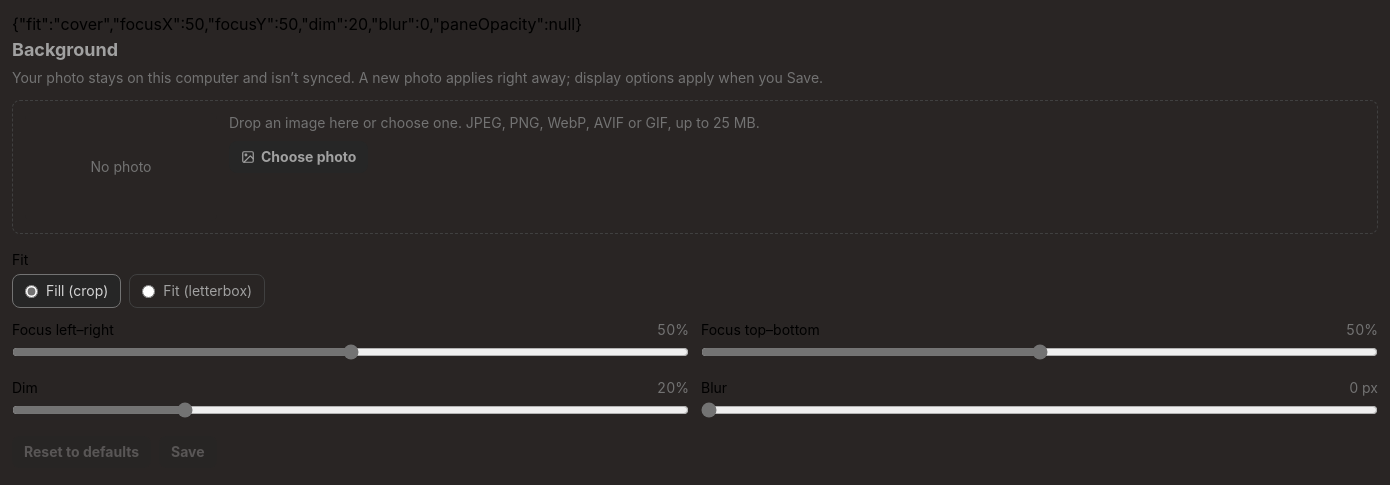
Scenario: BackgroundSettings › saves the options on Save
Set the slider labelled "Blur" to "10" at (1040, 410), box [701,402,1378,418]
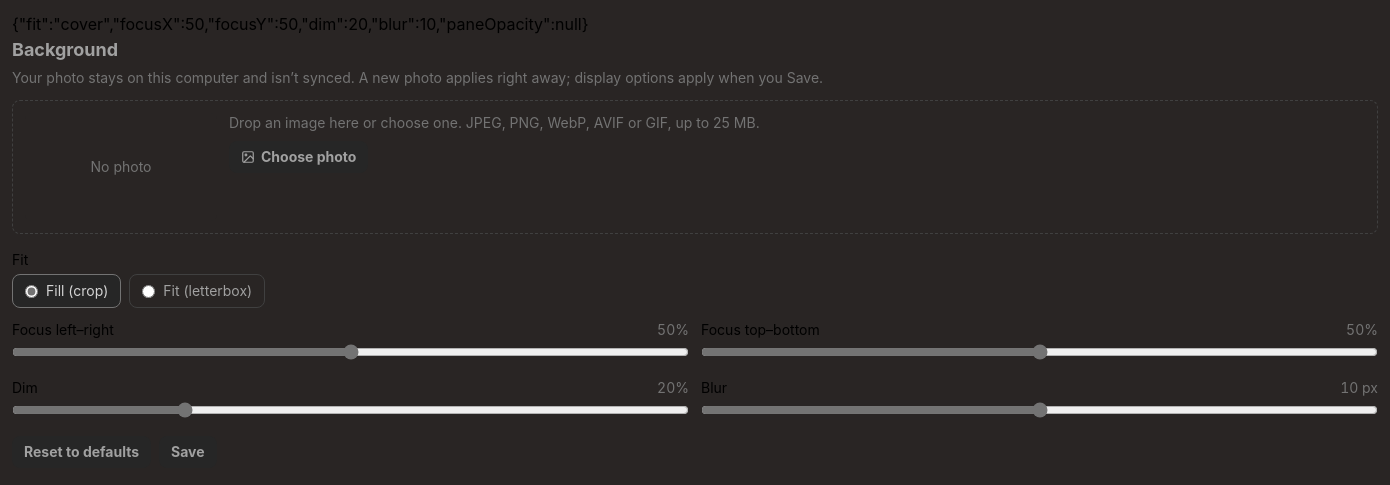
Set the slider labelled "Focus top–bottom" to "30" at (907, 352), box [701,344,1378,360]
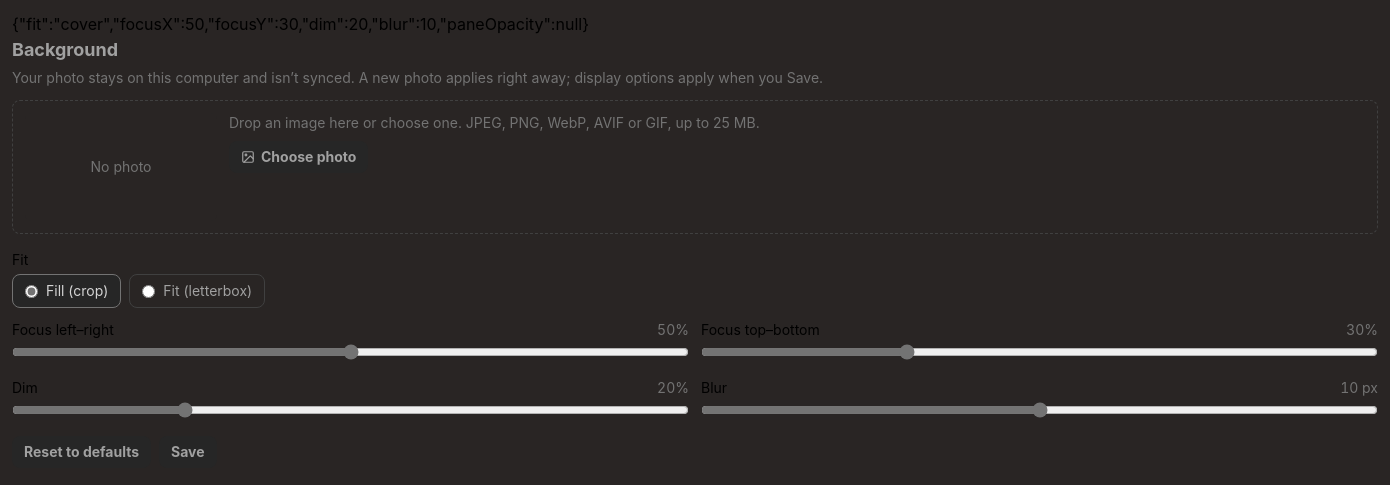
Click the button "Save" at (188, 452), box [159,436,217,468]
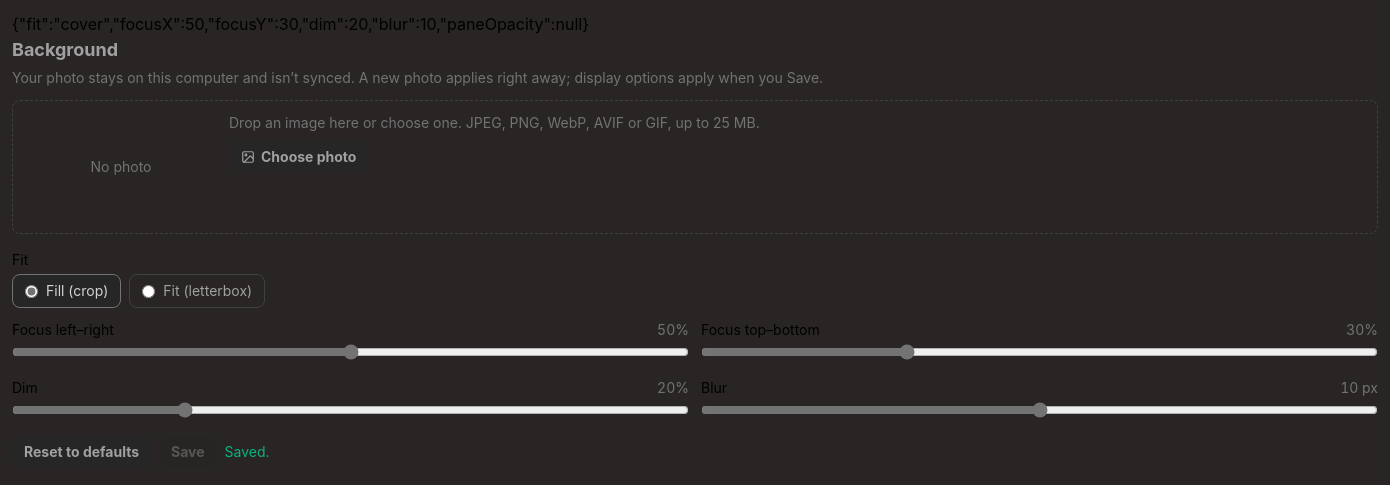
Now the text "Saved." is shown, box [225,442,270,462]
